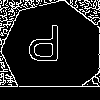P: (27, 25, 61, 70)
